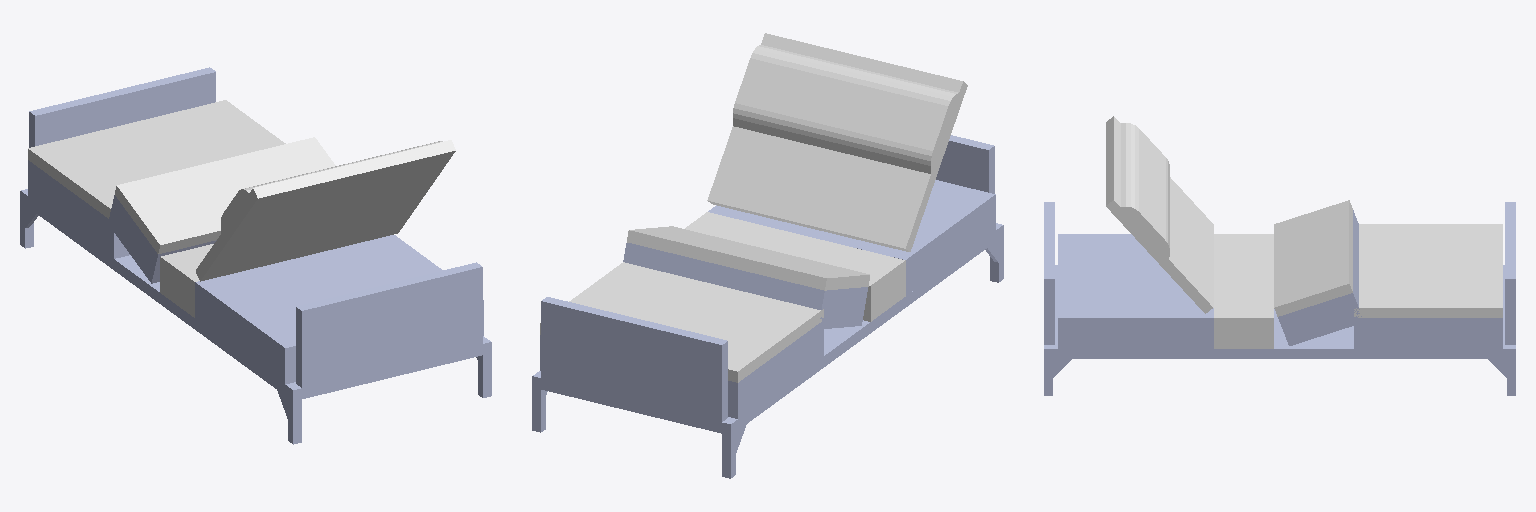
URDF robot description (autobed):
<?xml version="1.0" ?>
<robot name="autobed">

  <gazebo reference="autobed">
    <plugin filename="libros_model_plugin.so" name="ros_model_plugin"/>
    <static> false </static>
  </gazebo>

  <gazebo reference="head_rest_link">
    <gravity>true</gravity>
   <!-- kp and kd for thin mud -->
    <kp>1000.0</kp>
    <kd>0.0</kd>
    <mu1>1.5</mu1>
    <mu2>1.5</mu2>
    <fdir1>1 0 0</fdir1>
    <maxVel>1.0</maxVel>
    <minDepth>0.00</minDepth>
    <sensor name="head_rest_link_pressuremat_sensor" type="contact">
      <contact>
        <collision>head_rest_link_collision</collision>
        <topic>__default_topic__</topic>
      </contact>
      <plugin filename="libros_pressuremat_plugin.so" name="ros_pressuremat_plugin_head_rest_link"/>
      <always_on>1</always_on>
      <update_rate>30.0</update_rate>
      <visualize>false</visualize>
    </sensor>
  </gazebo>

  <gazebo reference="head_rest_spring">
    <gravity>true</gravity>
   <!-- kp and kd for thick mud -->
    <kp>10000000000.0</kp>
    <kd>0.0</kd>
    <mu1>1.5</mu1>
    <mu2>1.5</mu2>
    <fdir1>1 0 0</fdir1>
    <maxVel>1.0</maxVel>
    <minDepth>0.00</minDepth>
  </gazebo>


  <gazebo reference="mid_body_link">
    <gravity>true</gravity>
    <!-- kp and kd for rubber -->
    <kp>1000.0</kp>
    <kd>0.0</kd>
    <mu1>1.5</mu1>
    <mu2>1.5</mu2>
    <fdir1>1 0 0</fdir1>
    <maxVel>1.0</maxVel>
    <minDepth>0.00</minDepth>
   <sensor name="mid_body_link_pressuremat_sensor" type="contact">
      <contact>
        <collision>mid_body_link_collision</collision>
        <topic>__default_topic__</topic>
      </contact>
      <plugin filename="libros_pressuremat_plugin.so" name="ros_pressuremat_plugin_mid_body_link"/>
      <always_on>1</always_on>
      <update_rate>30.0</update_rate>
      <visualize>false</visualize>
    </sensor>
  </gazebo>

  <gazebo reference="torso_lift_link">
    <gravity>true</gravity>
    <!-- kp and kd for rubber -->
    <kp>10000000000.0</kp>
    <kd>0.0</kd>
    <mu1>1.5</mu1>
    <mu2>1.5</mu2>
    <fdir1>1 0 0</fdir1>
    <maxVel>1.0</maxVel>
    <minDepth>0.00</minDepth>
  </gazebo>


  <gazebo reference="leg_rest_upper_link">
    <gravity>true</gravity>
    <!-- kp and kd for rubber -->
    <kp>1000.0</kp>
    <kd>0.0</kd>
    <mu1>1.5</mu1>
    <mu2>1.5</mu2>
    <fdir1>1 0 0</fdir1>
    <maxVel>1.0</maxVel>
    <minDepth>0.00</minDepth>
   <sensor name="leg_rest_upper_link_pressuremat_sensor" type="contact">
      <contact>
        <collision>leg_rest_upper_link_collision</collision>
        <topic>__default_topic__</topic>
      </contact>
      <plugin filename="libros_pressuremat_plugin.so" name="ros_pressuremat_plugin_leg_rest_upper_link"/>
      <always_on>1</always_on>
      <update_rate>30.0</update_rate>
      <visualize>false</visualize>
    </sensor>
  </gazebo>

  <gazebo reference="leg_rest_upper_spring">
    <gravity>true</gravity>
    <!-- kp and kd for rubber -->
    <kp>10000000000.0</kp>
    <kd>0.0</kd>
    <mu1>1.5</mu1>
    <mu2>1.5</mu2>
    <fdir1>1 0 0</fdir1>
    <maxVel>1.0</maxVel>
    <minDepth>0.00</minDepth>
  </gazebo>


  <gazebo reference="leg_rest_lower_link">
    <gravity>true</gravity>
    <!-- kp and kd for rubber -->
    <kp>1000.0</kp>
    <kd>0.0</kd>
    <mu1>1.5</mu1>
    <mu2>1.5</mu2>
    <fdir1>1 0 0</fdir1>
    <maxVel>1.0</maxVel>
    <minDepth>0.00</minDepth>

    <sensor name="leg_rest_lower_link_pressuremat_sensor" type="contact">
      <contact>
        <collision>leg_rest_lower_link_collision</collision>
        <topic>__default_topic__</topic>
      </contact>
      <plugin filename="libros_pressuremat_plugin.so" name="ros_pressuremat_plugin_leg_rest_lower_link"/>
      <always_on>1</always_on>
      <update_rate>30.0</update_rate>
      <visualize>false</visualize>
    </sensor>
  </gazebo>


  <gazebo reference="leg_rest_lower_spring">
    <gravity>true</gravity>
    <!-- kp and kd for rubber -->
    <kp>10000000000.0</kp>
    <kd>111111111110.0</kd>
    <mu1>1.5</mu1>
    <mu2>1.5</mu2>
    <fdir1>1 0 0</fdir1>
    <maxVel>1.0</maxVel>
    <minDepth>0.00</minDepth>
  </gazebo>



  <link name="world"/>

  <link name="camera_link">
  </link> 

  <joint name="X" type="fixed">
    <axis xyz="1 0 0"/>
    <origin rpy="0 0 1.57079632679" xyz="0.0 -1.1433776843867E-16 0.0"/>
    <parent link="world"/>
    <child link="base_link"/>
    <limit effort="30" lower="-0.714601836603" upper="2.2853981634" velocity="3.48"/>
    <dynamics damping="10.0"/>
    <safety_controller k_position="100" k_velocity="10" soft_lower_limit="-0.564601836603" soft_upper_limit="2.1353981634"/>
  </joint>

   <joint name="torso_camera_joint" type="fixed">
       <origin rpy="0.03 0.5 -3.0" xyz="1.52 1.35 1.33"/> 
        <parent link="world"/>
        <child link="camera_link"/>
    </joint>


  <link
    name="base_link">
    <inertial>
      <origin
        xyz="0.0 -1.33394063178448E-16 0.0"
        rpy="0 0 0" />
      <mass
        value="582.60172808288" />
      <inertia
        ixx="1.14927006759014"
        ixy="3.33066907387547E-16"
        ixz="-3.20129858648357E-16"
        iyy="6.70434113225239"
        iyz="-1.34244075554923E-15"
        izz="7.79754704731756" />
    </inertial>
    <visual>
      <origin
        xyz="0 0 0"
        rpy="0 0 0" />
      <geometry>
        <mesh
          filename="package://hrl_gazebo_autobed/urdf/meshes/base_link.STL" />
      </geometry>
      <material
        name="">
        <color
          rgba="0.792156862745098 0.819607843137255 0.933333333333333 1" />
      </material>
    </visual>
    <collision>
      <origin
        xyz="0 0 0"
        rpy="0 0 0" />
      <geometry>
        <mesh
          filename="package://hrl_gazebo_autobed/urdf/meshes/base_link.STL" />
      </geometry>
    </collision>
  </link>

  <link
    name="torso_lift_link">
    <inertial>
      <origin
        xyz="1.0496 2.2511E-16 0.082398"
        rpy="0 0 0" />
      <mass
        value="14.2783" />
      <inertia
        ixx="12.999"
        ixy="3.3693E-14"
        ixz="-0.32653"
        iyy="75.15"
        iyz="6.0531E-15"
        izz="85.421" />
    </inertial>
    <visual>
      <origin
        xyz="0 0 0"
        rpy="0 0 0" />
      <geometry>
        <mesh
          filename="package://hrl_gazebo_autobed/urdf/meshes/torso_lift_link.STL" />
      </geometry>
      <material
        name="">
        <color
          rgba="0.79216 0.81961 0.93333 1" />
      </material>
    </visual>
    <collision>
      <origin
        xyz="0 0 0"
        rpy="0 0 0" />
      <geometry>
        <mesh
          filename="package://hrl_gazebo_autobed/urdf/meshes/torso_lift_link.STL" />
      </geometry>
    </collision>
  </link>
  <joint
    name="autobed_height_joint"
    type="prismatic">
    <origin
      xyz="-0.02 0 0.2805"
      rpy="0 0 0" />
    <parent
      link="base_link" />
    <child
      link="torso_lift_link" />
    <axis
      xyz="0 0 1" />
    <limit
      lower="0.0"
      upper="0.2"
      effort="2000"
      velocity="0.2" />
  </joint>

  <link
    name="mid_body_link">
    <inertial>
      <origin
        xyz="2.5603E-16 0.185 -0.14"
        rpy="0 0 0" />
      <mass
        value="4.0992" />
      <inertia
        ixx="0.086361"
        ixy="1.3556E-16"
        ixz="-7.0508E-17"
        iyy="0.97743"
        iyz="1.6284E-17"
        izz="0.89641" />
    </inertial>
    <visual>
      <origin
        xyz="0 0 0"
        rpy="0 0 0" />
      <geometry>
        <mesh
          filename="package://hrl_gazebo_autobed/urdf/meshes/mid_body_link.STL" />
      </geometry>
      <material
        name="">
        <color
          rgba="0.93333 0.93333 0.93333 1" />
      </material>
    </visual>
    <collision name="mid_body_link_collision">
      <origin
        xyz="0 0 0"
        rpy="0 0 0" />
      <geometry>
        <mesh
          filename="package://hrl_gazebo_autobed/urdf/meshes/mid_body_link.STL" />
      </geometry>
    </collision>
  </link>

  <joint
    name="mid_body_support"
    type="revolute">
    <origin
      xyz="0.78266 0 0.05"
      rpy="1.5708 -8.0245E-32 -1.5708" />
    <parent
      link="torso_lift_link" />
    <child
      link="mid_body_link" />
    <axis
      xyz="0 0 1" />
    <limit
      lower="0"
      upper="0"
      effort="0"
      velocity="0" />
  </joint>

  <link
    name="head_rest_link">
    <inertial>
      <origin
        xyz="-0.40091 -8.251E-16 -0.01072"
        rpy="0 0 0" />
      <mass
        value="5.2153755040103" />
      <inertia
        ixx="3.2938"
        ixy="-1.1573E-16"
        ixz="-0.065382"
        iyy="1.7511"
        iyz="-3.6248E-16"
        izz="4.9801" />
    </inertial>
    <visual>
      <origin
        xyz="0 0 0"
        rpy="0 0 0" />
      <geometry>
        <mesh
          filename="package://hrl_gazebo_autobed/urdf/meshes/head_rest_link.STL" />
      </geometry>
      <material
        name="">
        <color
          rgba="0.9333 0.9333 0.93333 1" />
      </material>
    </visual>
    <collision name="head_rest_link_collision">
      <origin
        xyz="0 0 0"
        rpy="0 0 0" />
      <geometry>
        <mesh
          filename="package://hrl_gazebo_autobed/urdf/meshes/head_rest_link.STL" />
      </geometry>
    </collision>
  </link>

  <joint
    name="head_rest_hinge"
    type="revolute">
    <origin
      xyz="0 0.21 0"
      rpy="0 1.57 1.57" />
    <parent
      link="mid_body_link" />
    <child
      link="head_rest_link" />
    <axis
      xyz="0 1 0" />
    <limit
      lower="0"
      upper="1.57"
      effort="2000"
      velocity="0.2" />
  </joint>

  <link
    name="head_rest_spring">
    <inertial>
      <origin
        xyz="-0.36 -9.134E-16 -0.13"
        rpy="0 0 0" />
      <mass
        value="10.0" />
      <inertia
        ixx="7.5791"
        ixy="-1.4362E-15"
        ixz="-1.0523E-15"
        iyy="4.7785"
        iyz="-9.0916E-16"
        izz="11.908" />
    </inertial>
    <visual>
      <origin
        xyz="0 0 0"
        rpy="0 0 0" />
      <geometry>
        <mesh
          filename="package://hrl_gazebo_autobed/urdf/meshes/head_rest_spring.STL" />
      </geometry>
      <material
        name="">
        <color
          rgba="0.79216 0.81961 0.93333 1" />
      </material>
    </visual>
    <collision>
      <origin
        xyz="0 0 0"
        rpy="0 0 0" />
      <geometry>
        <mesh
          filename="package://hrl_gazebo_autobed/urdf/meshes/head_rest_spring.STL" />
      </geometry>
    </collision>
  </link>

  <joint
    name="head_support"
    type="revolute">
    <origin
      xyz="0 0 0"
      rpy="0 0 0" />
    <parent
      link="head_rest_link" />
    <child
      link="head_rest_spring" />
    <axis
      xyz="0 0 1" />
    <limit
      lower="0"
      upper="0"
      effort="0"
      velocity="0" />
  </joint>

  <link
    name="leg_rest_upper_link">
    <inertial>
      <origin
        xyz="0.185 -5.0573E-17 -0.025"
        rpy="0 0 0" />
      <mass
        value="02.10955" />
      <inertia
        ixx="1.1845"
        ixy="1.1918E-16"
        ixz="2.5669E-17"
        iyy="0.19664"
        iyz="-1.0577E-16"
        izz="1.3741" />
    </inertial>
    <visual>
      <origin
        xyz="0 0 0"
        rpy="0 0 0" />
      <geometry>
        <mesh
          filename="package://hrl_gazebo_autobed/urdf/meshes/leg_rest_upper_link.STL" />
      </geometry>
      <material
        name="">
        <color
          rgba="0.9333 0.93333 0.93333 1" />
      </material>
    </visual>
    <collision name="leg_rest_upper_link_collision">
      <origin
        xyz="0 0 0"
        rpy="0 0 0" />
      <geometry>
        <mesh
          filename="package://hrl_gazebo_autobed/urdf/meshes/leg_rest_upper_link.STL" />
      </geometry>
    </collision>
  </link>

  <joint
    name="leg_rest_upper_joint"
    type="revolute">
    <origin
      xyz="0 0.21 -0.28"
      rpy="0 1.5708 1.5708" />
    <parent
      link="mid_body_link" />
    <child
      link="leg_rest_upper_link" />
    <axis
      xyz="0 -1 0" />
    <limit
      lower="0"
      upper="1"
      effort="2000"
      velocity="0.2" />
  </joint>

  <link
    name="leg_rest_lower_link">
    <inertial>
      <origin
        xyz="0.345 -1.9462E-17 -0.025"
        rpy="0 0 0" />
      <mass
        value="3.25835" />
      <inertia
        ixx="2.209"
        ixy="1.3017E-16"
        ixz="-6.1265E-16"
        iyy="1.259"
        iyz="-5.5408E-16"
        izz="3.4549" />
    </inertial>
    <visual>
      <origin
        xyz="0 0 0"
        rpy="0 0 0" />
      <geometry>
        <mesh
          filename="package://hrl_gazebo_autobed/urdf/meshes/leg_rest_lower_link.STL" />
      </geometry>
      <material
        name="">
        <color
          rgba="0.93333 0.93333 0.93333 1" />
      </material>
    </visual>
    <collision name="leg_rest_lower_link_collision">
      <origin
        xyz="0 0 0"
        rpy="0 0 0" />
      <geometry>
        <mesh
          filename="package://hrl_gazebo_autobed/urdf/meshes/leg_rest_lower_link.STL" />
      </geometry>
    </collision>
  </link>

  <joint
    name="leg_rest_upper_lower_joint"
    type="revolute">
    <origin
      xyz="0.37 0 0"
      rpy="0 0 0" />
    <parent
      link="leg_rest_upper_link" />
    <child
      link="leg_rest_lower_link" />
    <axis
      xyz="0 -1 0" />
    <limit
      lower="-0.785"
      upper="0"
      effort="2000"
      velocity="0.2" />
  </joint>

  <link
    name="leg_rest_lower_spring">
    <inertial>
      <origin
        xyz="0.345 -2.9232E-16 -0.13"
        rpy="0 0 0" />
      <mass
        value="10.016" />
      <inertia
        ixx="7.2633"
        ixy="-1.2975E-15"
        ixz="1.814E-16"
        iyy="4.2233"
        iyz="-1.5281E-15"
        izz="11.056" />
    </inertial>
    <visual>
      <origin
        xyz="0 0 0"
        rpy="0 0 0" />
      <geometry>
        <mesh
          filename="package://hrl_gazebo_autobed/urdf/meshes/leg_rest_lower_spring.STL" />
      </geometry>
      <material
        name="">
        <color
          rgba="0.79216 0.81961 0.93333 1" />
      </material>
    </visual>
    <collision>
      <origin
        xyz="0 0 0"
        rpy="0 0 0" />
      <geometry>
        <mesh
          filename="package://hrl_gazebo_autobed/urdf/meshes/leg_rest_lower_spring.STL" />
      </geometry>
    </collision>
  </link>

  <joint
    name="leg_rest_lower_support"
    type="revolute">
    <origin
      xyz="0 0 0"
      rpy="0 0 0" />
    <parent
      link="leg_rest_lower_link" />
    <child
      link="leg_rest_lower_spring" />
    <axis
      xyz="0 0 1" />
    <limit
      lower="0"
      upper="0"
      effort="0"
      velocity="0" />
  </joint>

  <link
    name="leg_rest_upper_spring">
    <inertial>
      <origin
        xyz="0.185 -1.2824E-16 -0.13"
        rpy="0 0 0" />
      <mass
        value="5.0" />
      <inertia
        ixx="3.8948"
        ixy="-5.5404E-16"
        ixz="-1.058E-16"
        iyy="0.73353"
        iyz="-5.0897E-16"
        izz="4.3972" />
    </inertial>
    <visual>
      <origin
        xyz="0 0 0"
        rpy="0 0 0" />
      <geometry>
        <mesh
          filename="package://hrl_gazebo_autobed/urdf/meshes/leg_rest_upper_spring.STL" />
      </geometry>
      <material
        name="">
        <color
          rgba="0.79216 0.81961 0.93333 1" />
      </material>
    </visual>
    <collision>
      <origin
        xyz="0 0 0"
        rpy="0 0 0" />
      <geometry>
        <mesh
          filename="package://hrl_gazebo_autobed/urdf/meshes/leg_rest_upper_spring.STL" />
      </geometry>
    </collision>
  </link>

  <joint
    name="leg_rest_upper_support"
    type="revolute">
    <origin
      xyz="0 0 0"
      rpy="0 0 0" />
    <parent
      link="leg_rest_upper_link" />
    <child
      link="leg_rest_upper_spring" />
    <axis
      xyz="0 0 1" />
    <limit
      lower="0"
      upper="0"
      effort="0"
      velocity="0" />

  </joint>

<!-- yash added transmissions -->
  <transmission name="autobed_height_t0" type="pr2_mechanism_model/SimpleTransmission">
    <actuator name="autobed_height_a0"/>
    <joint name="autobed_height_joint"/>
    <mechanicalReduction>1</mechanicalReduction>
  </transmission>
  <transmission name="head_rest_t0" type="pr2_mechanism_model/SimpleTransmission">
    <actuator name="head_rest_a0"/>
    <joint name="head_rest_hinge"/>
    <mechanicalReduction>1.0</mechanicalReduction>
  </transmission>
  <transmission name="leg_rest_t1" type="pr2_mechanism_model/SimpleTransmission">
    <actuator name="leg_rest_a1"/>
    <joint name="leg_rest_upper_joint"/>
    <mechanicalReduction>1.0</mechanicalReduction>
  </transmission>
  <transmission name="leg_rest_t2" type="pr2_mechanism_model/SimpleTransmission">
    <actuator name="leg_rest_a2"/>
    <joint name="leg_rest_upper_lower_joint"/>
    <mechanicalReduction>1.0</mechanicalReduction>
  </transmission>

</robot>

--- What the picture shows (computed from the rendered views, not written in the file) ---
Views: 3 orthographic renders of the robot side by side, from view 1: azimuth 30°, elevation 25°; view 2: azimuth 150°, elevation 25°; view 3: azimuth 270°, elevation 25°.
Robot: autobed — 11 links, 10 joints (7 revolute, 1 prismatic, 2 fixed); root link world; default pose: all joints at 0.
Visible links, largest first — view 1: torso_lift_link, head_rest_link, head_rest_spring, leg_rest_lower_link, leg_rest_upper_link, leg_rest_lower_spring, mid_body_link, leg_rest_upper_spring; view 2: head_rest_link, torso_lift_link, leg_rest_lower_link, head_rest_spring, mid_body_link, leg_rest_upper_link, leg_rest_upper_spring, leg_rest_lower_spring; view 3: head_rest_spring, leg_rest_lower_link, head_rest_link, torso_lift_link, leg_rest_upper_link, mid_body_link, leg_rest_lower_spring, leg_rest_upper_spring.
Link boxes in pixels (<box>): torso_lift_link: <box>20,67,491,444</box>; head_rest_link: <box>196,140,455,281</box>; head_rest_spring: <box>195,235,483,384</box>; leg_rest_lower_link: <box>28,100,285,218</box>; leg_rest_upper_link: <box>115,137,335,253</box>; leg_rest_lower_spring: <box>28,160,129,258</box>; mid_body_link: <box>160,244,213,317</box>; leg_rest_upper_spring: <box>108,195,216,283</box>; head_rest_link: <box>707,33,967,251</box>; torso_lift_link: <box>532,135,1003,478</box>; leg_rest_lower_link: <box>540,262,823,382</box>; head_rest_spring: <box>708,180,995,295</box>; mid_body_link: <box>685,212,905,321</box>; leg_rest_upper_link: <box>627,226,869,290</box>; leg_rest_upper_spring: <box>623,243,867,328</box>; leg_rest_lower_spring: <box>540,322,823,418</box>; head_rest_spring: <box>1058,234,1213,348</box>; leg_rest_lower_link: <box>1354,224,1502,317</box>; head_rest_link: <box>1106,116,1213,313</box>; torso_lift_link: <box>1044,202,1515,395</box>; leg_rest_upper_link: <box>1274,200,1352,316</box>; mid_body_link: <box>1214,234,1273,348</box>; leg_rest_lower_spring: <box>1354,318,1502,348</box>; leg_rest_upper_spring: <box>1278,210,1363,345</box>.
Bounding box of the posed robot: 0.9156 × 2.18 × 1 m (x, y, z).
8 mesh visuals loaded from 9 distinct referenced files (8 binary STL); not drawn: 1 (reference not matched to a file when rendering).